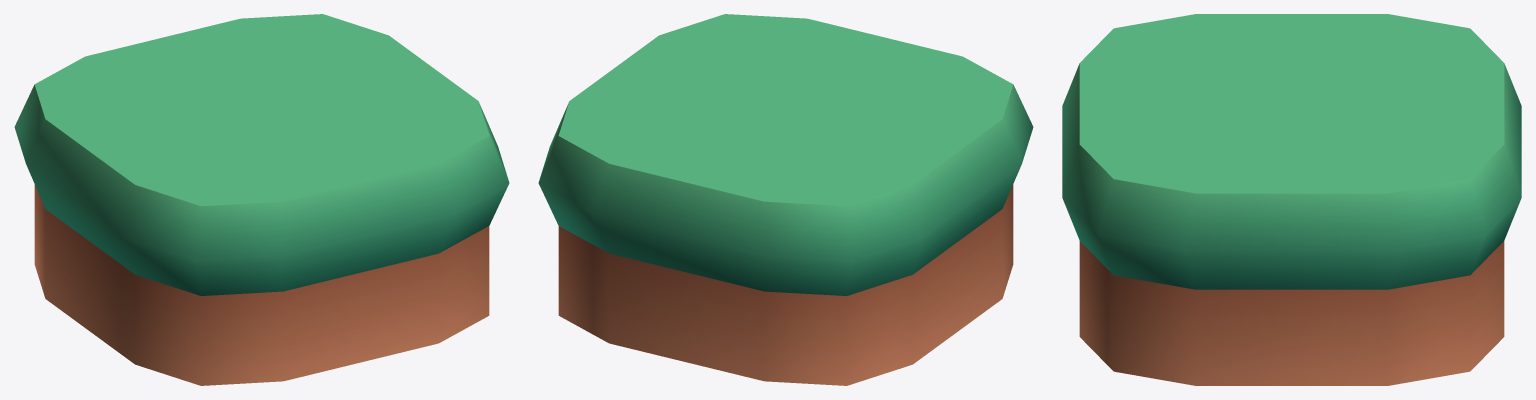
The model's file is kenney-platformer-block-grass-low.glb.
3 views of the same model, side by side, from view 1: azimuth 30°, elevation 25°; view 2: azimuth 150°, elevation 25°; view 3: azimuth 270°, elevation 25° (orthographic). The views are drawn at different scales.
Visible parts, largest first — view 1: block-grass-low; view 2: block-grass-low; view 3: block-grass-low.
Part boxes in pixels (x1=…): block-grass-low: x1=14, y1=14, x2=509, y2=385; block-grass-low: x1=538, y1=14, x2=1033, y2=385; block-grass-low: x1=1062, y1=14, x2=1521, y2=385.
Size of the model in its own units: 1.08 by 0.5 by 1.08.
Materials: 1 (1 with a texture image).
